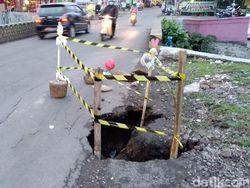Pothole: (67, 97, 221, 170)
